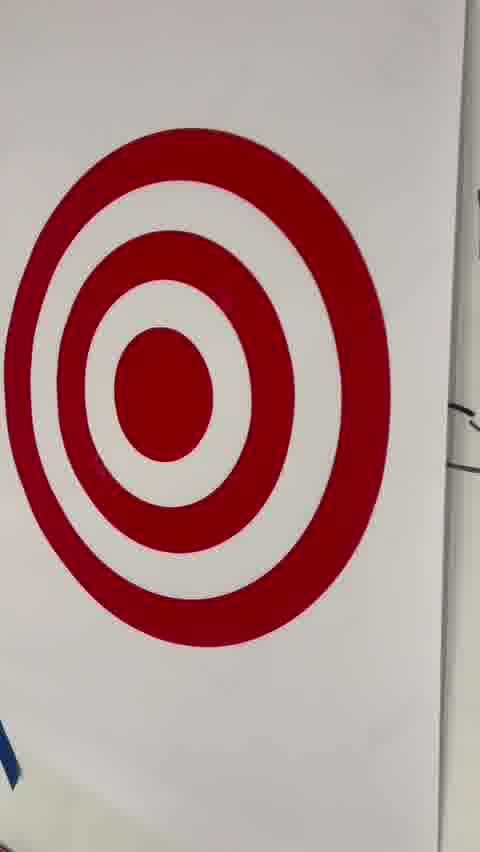target_red: (0, 126, 390, 647)
